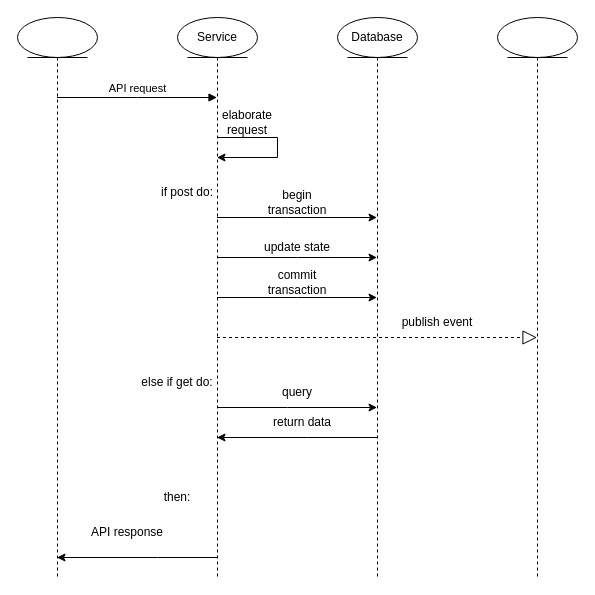
Image size: 595x595. Some labels were removed from this diagram. Here are the shapes that lost their labels. From the top down, the box of each, then its label:
(16, 16, 98, 578): Client
(496, 16, 578, 578): Message Broker
